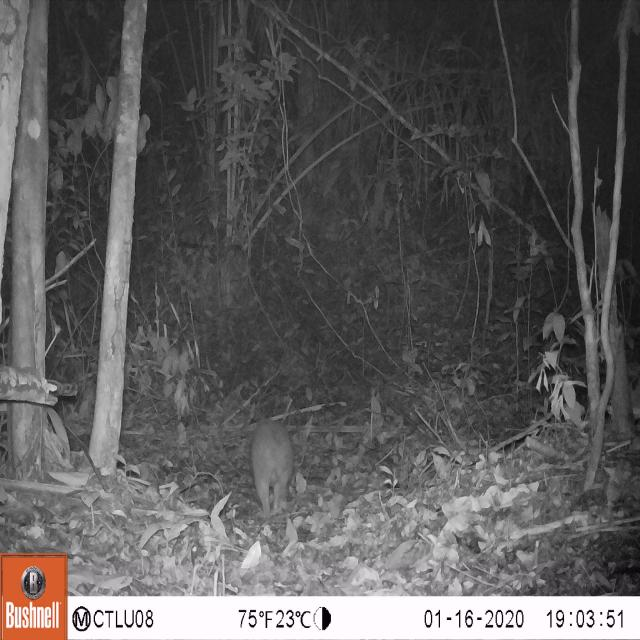Spotted Paca: (240, 411, 300, 522)
